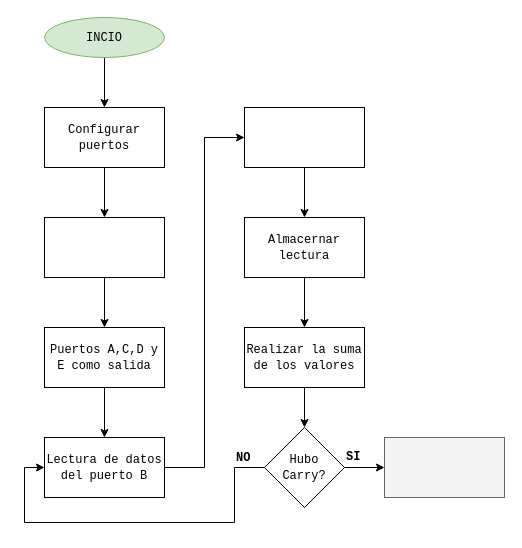
The diagram is 522 pixels wide and 548 high, and some of its shapes have lost their labels. Here are the shapes that lost their labels. From the top down, the box of each, then its label:
(244, 106, 364, 168): Invertir los valores leídos
(44, 216, 164, 278): Puerto B como entrada
(384, 436, 504, 498): CALL PARPADEO
